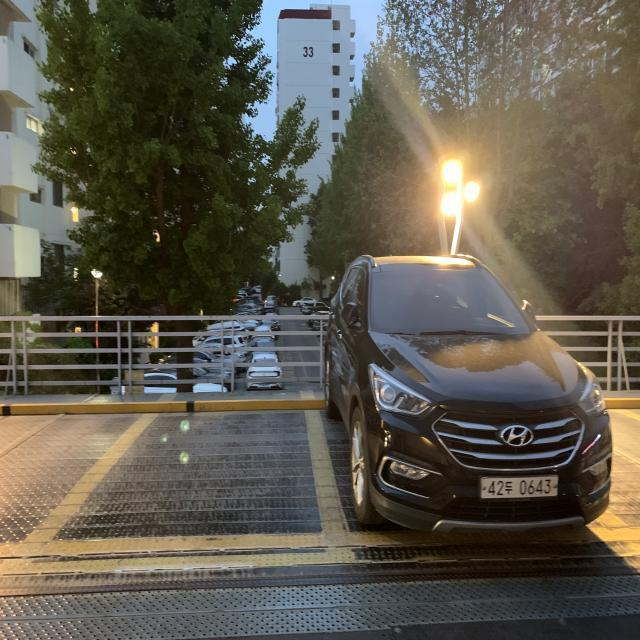Car: (320, 238, 620, 552)
Vacant: (15, 403, 329, 558)
